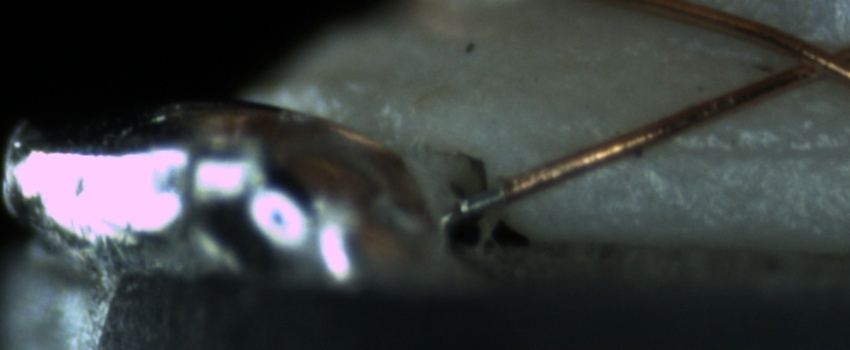CL: (764, 29, 849, 91)
DL: (616, 116, 847, 182)
TS: (448, 186, 504, 220)
